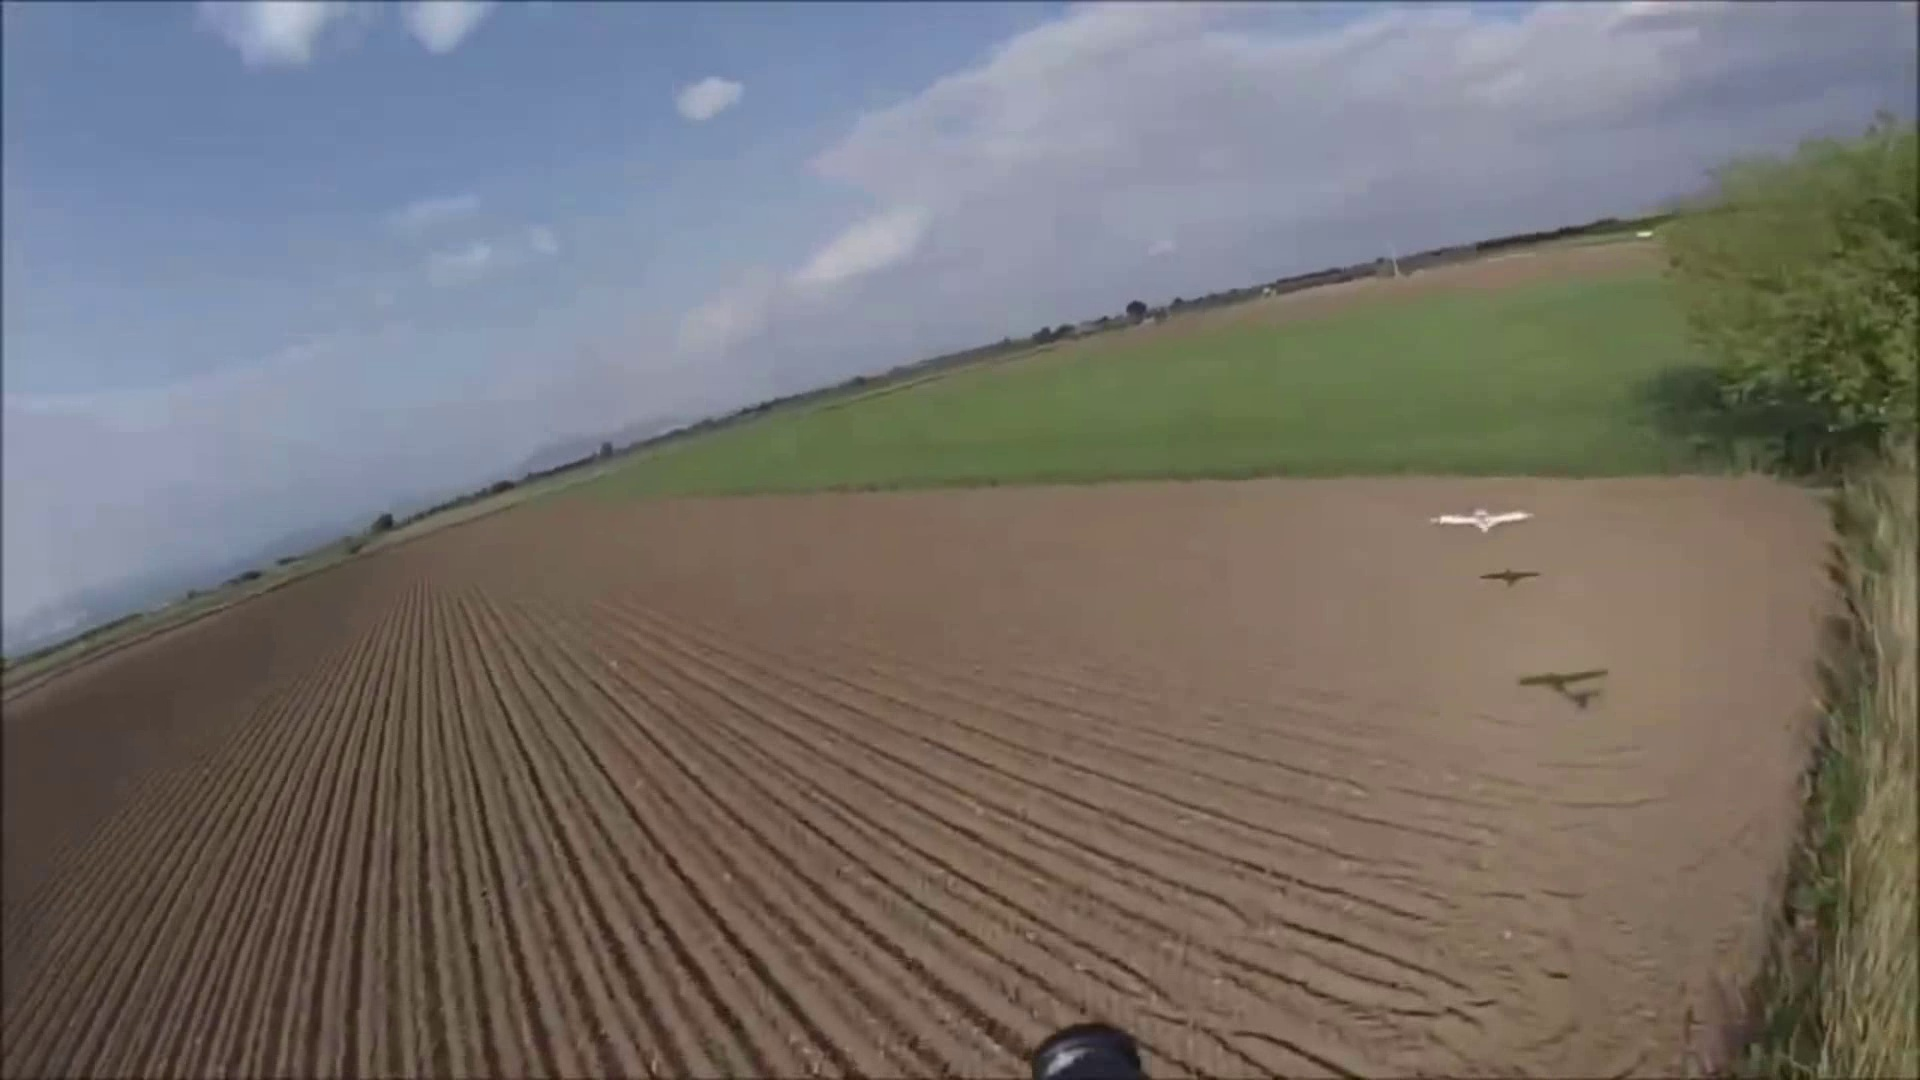airplane: (1429, 508, 1531, 534)
